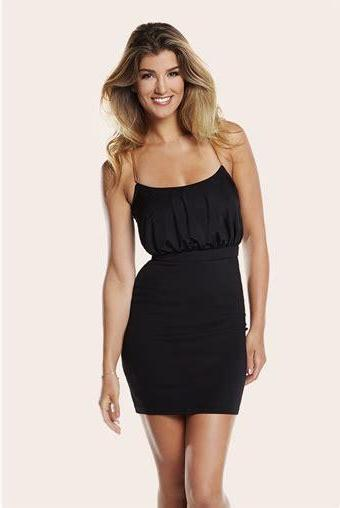dress: (120, 127, 249, 418)
